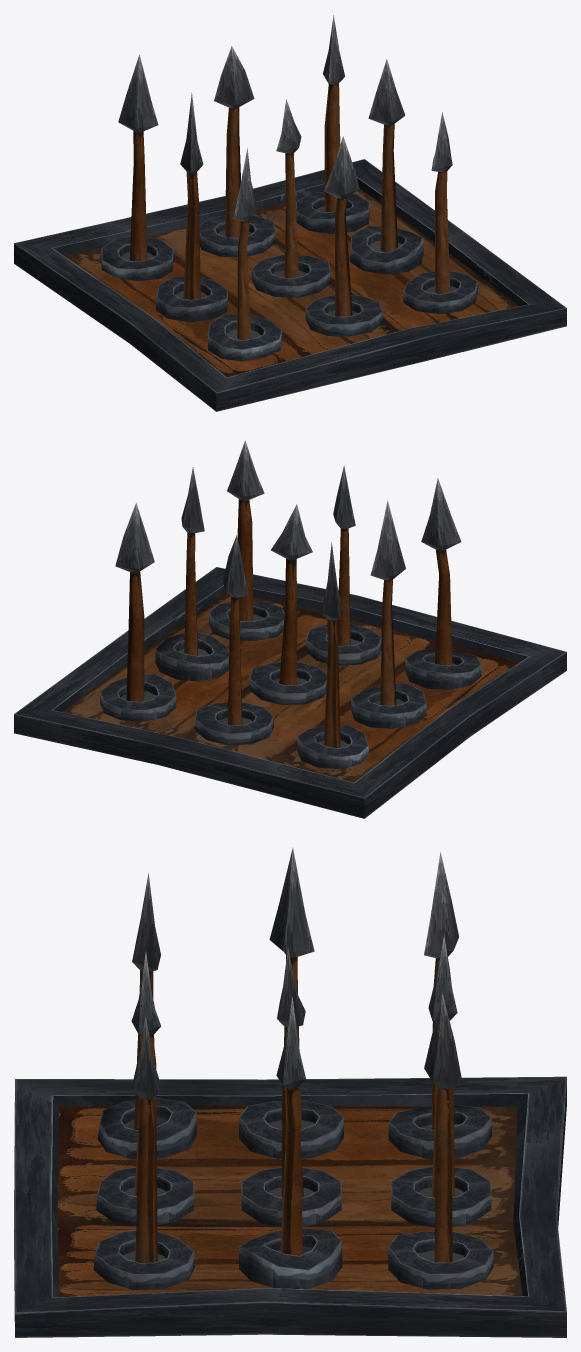
The model's file is P_PROP_trap_floor_dungeon_05.gltf.
3 renders of one model, top to bottom at view 1: azimuth 30°, elevation 25°; view 2: azimuth 150°, elevation 25°; view 3: azimuth 270°, elevation 25°, orthographic. The views are drawn at different scales.
Parts seen in each view (by area): view 1: P_PROP_trap_floor_dungeon_05, SM_PROP_trap_floor_spikes_dungeon_05; view 2: P_PROP_trap_floor_dungeon_05, SM_PROP_trap_floor_spikes_dungeon_05; view 3: P_PROP_trap_floor_dungeon_05, SM_PROP_trap_floor_spikes_dungeon_05.
Boxes of the visible parts, x1,y1,x2,y2 form: P_PROP_trap_floor_dungeon_05: [14, 159, 566, 411]; SM_PROP_trap_floor_spikes_dungeon_05: [118, 15, 452, 340]; P_PROP_trap_floor_dungeon_05: [14, 567, 566, 818]; SM_PROP_trap_floor_spikes_dungeon_05: [115, 440, 461, 748]; P_PROP_trap_floor_dungeon_05: [14, 1076, 566, 1337]; SM_PROP_trap_floor_spikes_dungeon_05: [131, 847, 462, 1262].
Size of the model in its own units: 2 by 1.24 by 2.01.
1 material, 1 textured.
